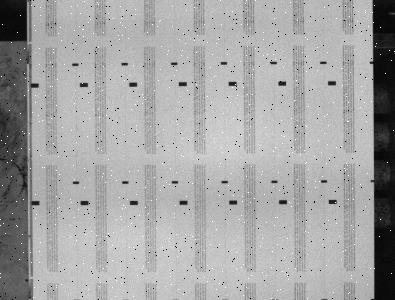backgroundclutter: (25, 279, 29, 282)
incorrect qblock: (370, 179, 375, 182), (369, 61, 373, 64), (371, 298, 375, 300)
qblock: (179, 200, 188, 205), (228, 81, 237, 86), (278, 81, 287, 86), (31, 83, 39, 88), (130, 200, 138, 205), (329, 199, 337, 204), (129, 82, 137, 87), (80, 82, 88, 87), (80, 201, 89, 205), (31, 201, 40, 205), (229, 200, 237, 204), (279, 200, 287, 204), (179, 82, 187, 86), (328, 81, 336, 85)
smallqblock: (121, 62, 128, 66), (72, 63, 79, 66), (320, 61, 327, 64), (220, 62, 227, 65), (171, 62, 178, 65), (270, 61, 277, 64), (122, 181, 129, 184), (171, 181, 178, 184), (221, 180, 228, 183), (271, 180, 278, 183), (73, 181, 79, 184), (321, 180, 327, 183), (171, 298, 178, 300), (321, 298, 328, 300), (122, 298, 129, 300), (271, 298, 278, 300), (221, 298, 228, 300), (73, 298, 79, 300)
